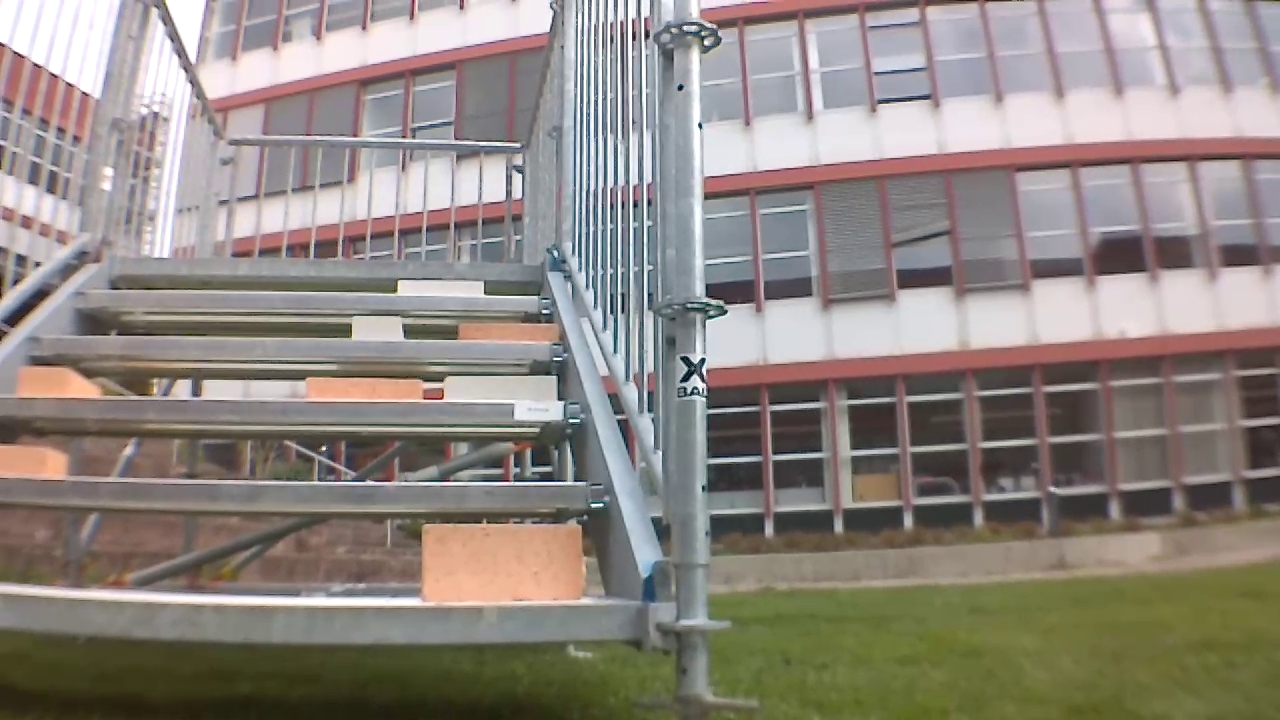brick: (420, 519, 588, 604), (445, 370, 567, 403), (304, 374, 420, 402), (0, 445, 78, 481), (22, 366, 108, 396), (456, 325, 554, 343), (394, 279, 485, 295), (347, 317, 406, 339)
edge: (0, 591, 666, 648), (0, 479, 616, 505), (0, 395, 583, 416), (67, 290, 555, 314), (22, 340, 569, 361), (109, 262, 554, 279)
stairs: (0, 0, 692, 715)
steps: (0, 257, 686, 656)
